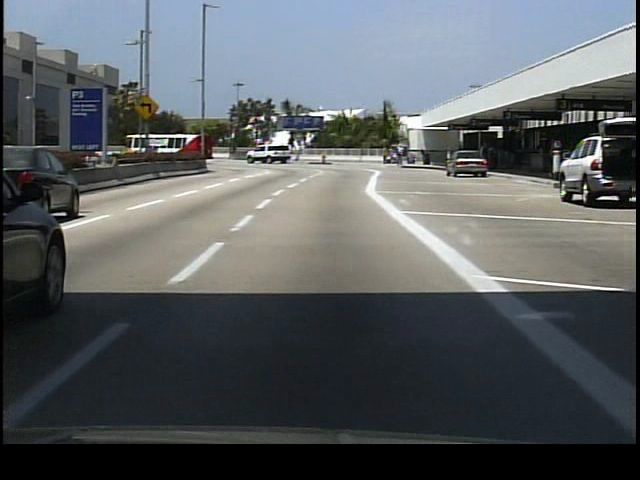person: (479, 149, 495, 181), (395, 145, 405, 173), (381, 147, 389, 171)
